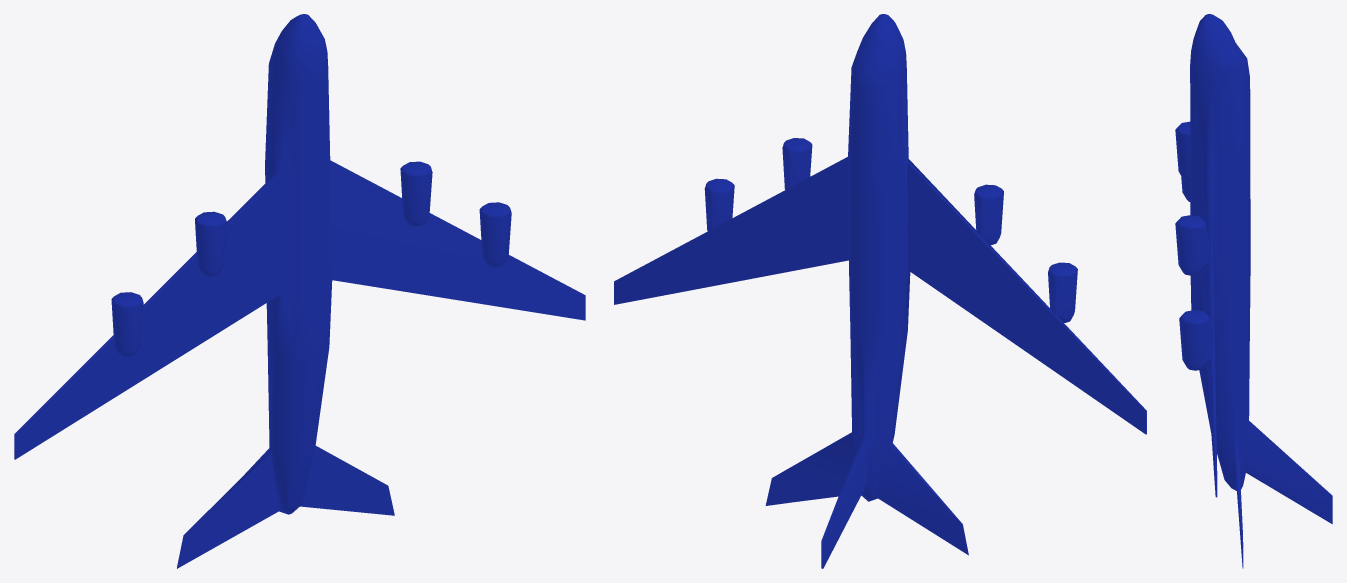
File: airplane.glb
3 renders of one model, left to right at view 1: azimuth 30°, elevation 25°; view 2: azimuth 150°, elevation 25°; view 3: azimuth 270°, elevation 25°, orthographic. The views are drawn at different scales.
Parts seen in each view (by area): view 1: AirPlane; view 2: AirPlane; view 3: AirPlane.
Boxes of the visible parts, left/top/right/bottom form: AirPlane: left=14, top=14, right=585, bottom=568; AirPlane: left=614, top=14, right=1146, bottom=568; AirPlane: left=1175, top=14, right=1332, bottom=568.
Bounding box in the file's own units: 0.1009 × 0.0922 × 0.0258.
